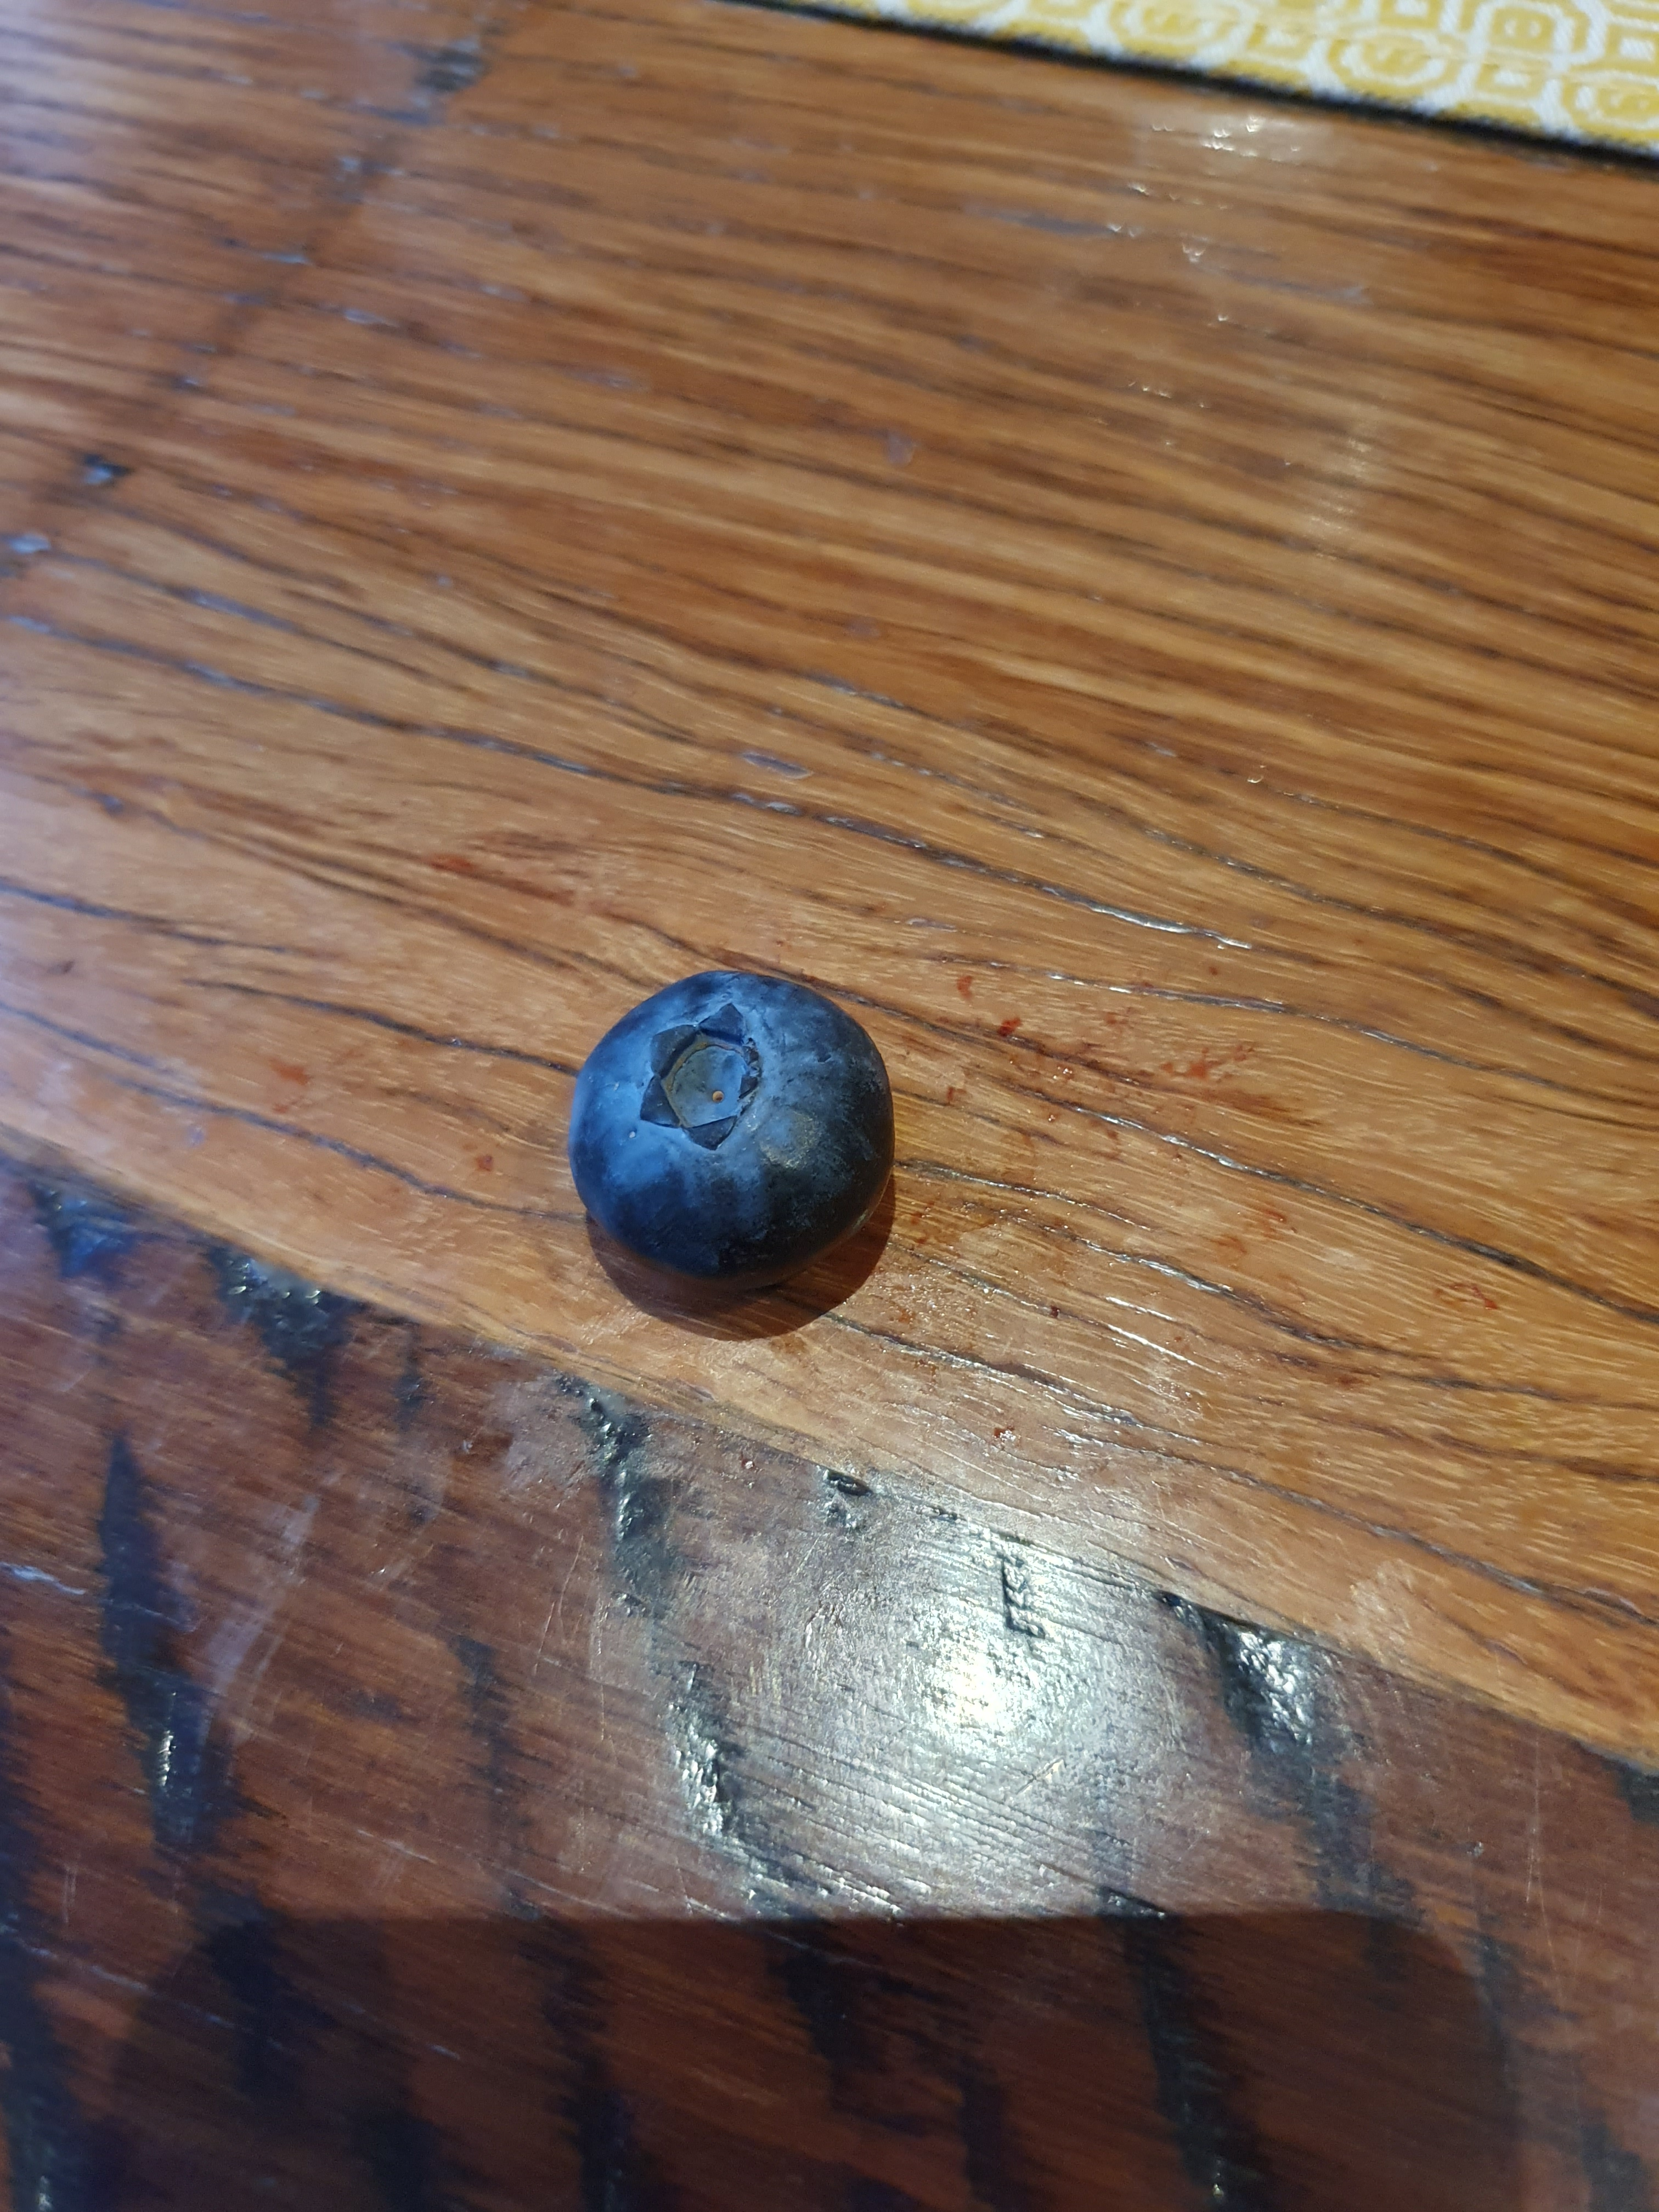blueberry: (532, 921, 924, 1338)
